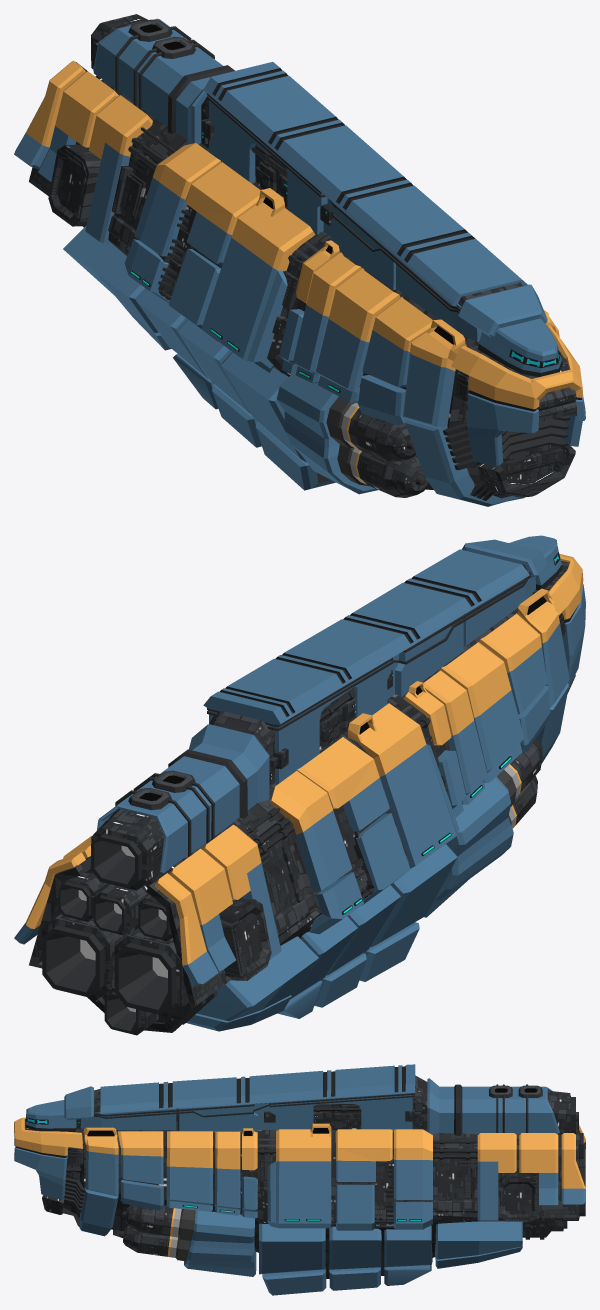
Rendered from Transport.glb.
3 renders of one model, top to bottom at view 1: azimuth 30°, elevation 25°; view 2: azimuth 150°, elevation 25°; view 3: azimuth 270°, elevation 25°, orthographic. The views are drawn at different scales.
Parts seen in each view (by area): view 1: SM_Ship_Massive_Transport_01; view 2: SM_Ship_Massive_Transport_01, SM_Ship_Massive_Transport_01.001; view 3: SM_Ship_Massive_Transport_01.
Part boxes in pixels (x1,y1,x2,y2): SM_Ship_Massive_Transport_01: (14, 14, 585, 506); SM_Ship_Massive_Transport_01: (14, 535, 585, 1035); SM_Ship_Massive_Transport_01.001: (78, 845, 167, 1012); SM_Ship_Massive_Transport_01: (14, 1064, 585, 1295).
Bounding box in the file's own units: 83.62 × 122 × 306.
Materials: 2 (1 with a texture image).
